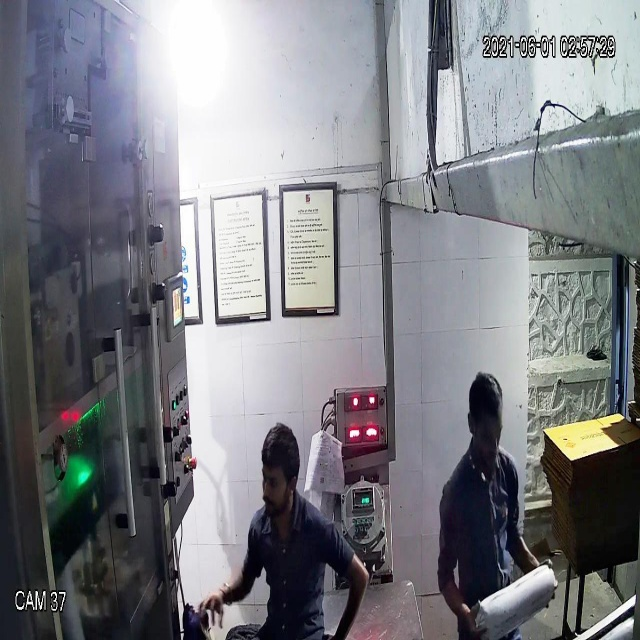Sin_gafas: (258, 465, 300, 497)
